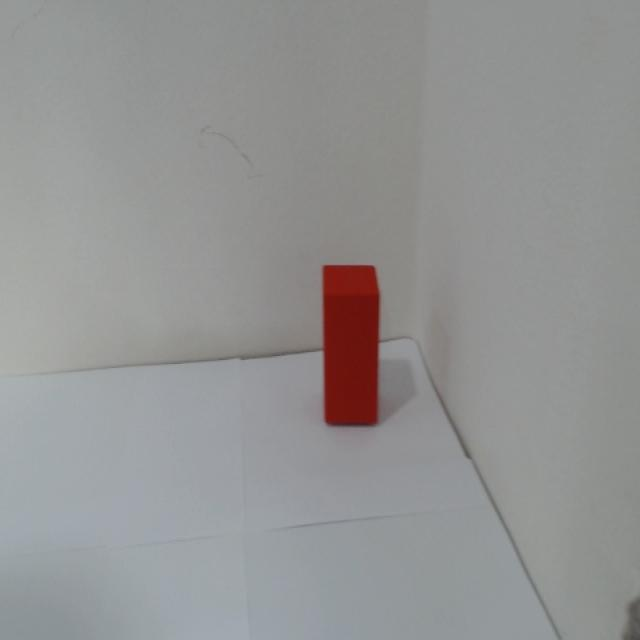cube: (322, 263, 382, 428)
